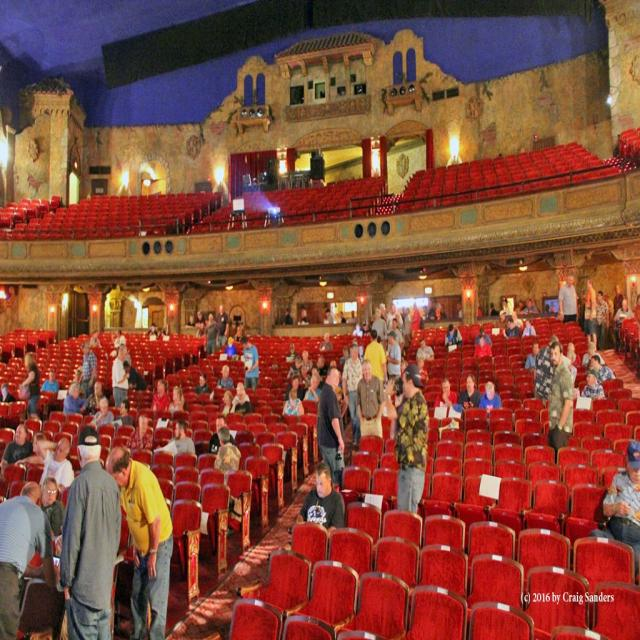body: (58, 419, 124, 639), (104, 444, 175, 640), (0, 480, 61, 640), (392, 362, 431, 514), (601, 439, 640, 582), (295, 460, 346, 543), (316, 366, 346, 488), (547, 339, 574, 465), (304, 356, 350, 412), (35, 436, 76, 496), (356, 358, 386, 440), (344, 341, 364, 451), (533, 332, 559, 408), (430, 374, 460, 437), (0, 422, 34, 477), (213, 424, 243, 486), (377, 295, 409, 347), (334, 319, 376, 355), (378, 364, 407, 416), (362, 328, 388, 384), (41, 476, 65, 536), (156, 418, 197, 453), (20, 351, 40, 420), (111, 341, 131, 407), (239, 334, 260, 394), (583, 278, 599, 356), (125, 412, 154, 454), (207, 412, 236, 454), (14, 431, 46, 469), (557, 272, 579, 326), (613, 297, 635, 351), (78, 342, 98, 400), (514, 292, 560, 317), (385, 329, 403, 384), (477, 380, 502, 419), (120, 359, 148, 393), (457, 371, 481, 410), (557, 338, 582, 375), (62, 381, 88, 415), (248, 163, 283, 188), (594, 290, 609, 348), (588, 353, 616, 384), (630, 290, 640, 375), (40, 366, 60, 408), (371, 307, 388, 356), (68, 366, 88, 407), (228, 381, 252, 415), (580, 368, 605, 400), (91, 396, 115, 429), (421, 301, 451, 325), (203, 312, 219, 355), (215, 304, 229, 351), (282, 387, 304, 416), (114, 340, 136, 369), (218, 390, 238, 421), (317, 330, 334, 366), (302, 373, 322, 403), (582, 341, 606, 366), (87, 379, 105, 412), (425, 297, 436, 351), (232, 324, 248, 361), (50, 524, 66, 561), (387, 318, 402, 357), (399, 331, 414, 369), (338, 343, 353, 378), (168, 383, 186, 412), (414, 336, 434, 362), (285, 375, 304, 402), (152, 378, 168, 410), (347, 307, 358, 353), (473, 333, 493, 358), (444, 322, 463, 348), (360, 318, 372, 359), (281, 306, 296, 338), (351, 321, 363, 361), (117, 398, 134, 426), (215, 364, 234, 389), (419, 303, 431, 341), (474, 326, 493, 350), (194, 308, 208, 340), (524, 341, 540, 369), (411, 301, 422, 339), (298, 348, 314, 374), (416, 356, 428, 389), (612, 284, 624, 317), (287, 356, 302, 382), (0, 381, 17, 403), (154, 324, 168, 350), (183, 314, 196, 342), (402, 306, 412, 342), (194, 372, 210, 394), (284, 342, 300, 364), (113, 327, 128, 350), (224, 335, 238, 357), (511, 310, 525, 332), (604, 292, 615, 320), (521, 317, 537, 336), (231, 321, 251, 336), (88, 328, 102, 349), (505, 317, 519, 337), (495, 309, 508, 329), (322, 308, 334, 324), (147, 322, 159, 337), (476, 298, 484, 320), (502, 296, 511, 315), (338, 308, 348, 324), (455, 299, 463, 319), (300, 308, 309, 324), (489, 301, 498, 316), (379, 302, 387, 318), (311, 362, 320, 376)
